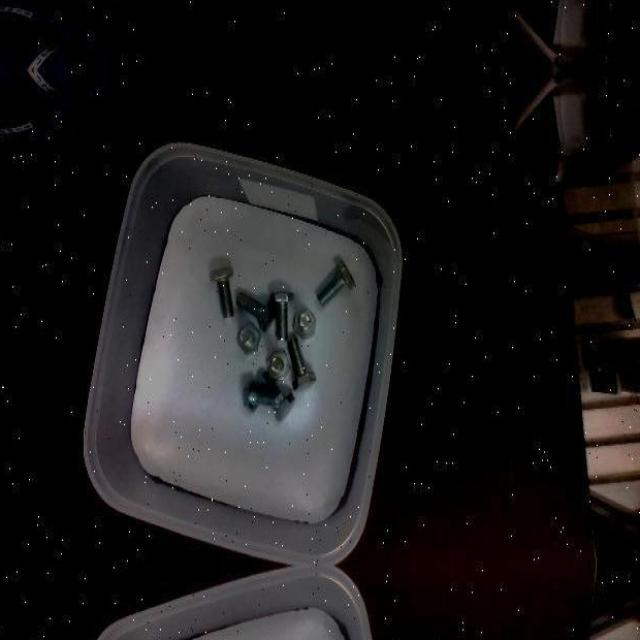screw: (317, 260, 355, 307), (236, 291, 277, 331), (288, 336, 317, 390), (243, 380, 284, 413), (210, 266, 234, 318), (271, 291, 294, 341), (238, 321, 261, 356), (293, 308, 317, 340), (266, 350, 290, 380)
